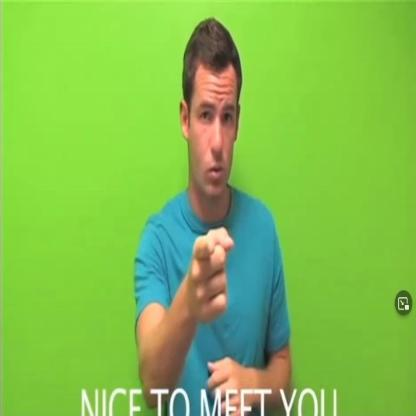NiceToMeetYou: (186, 219, 276, 416)
